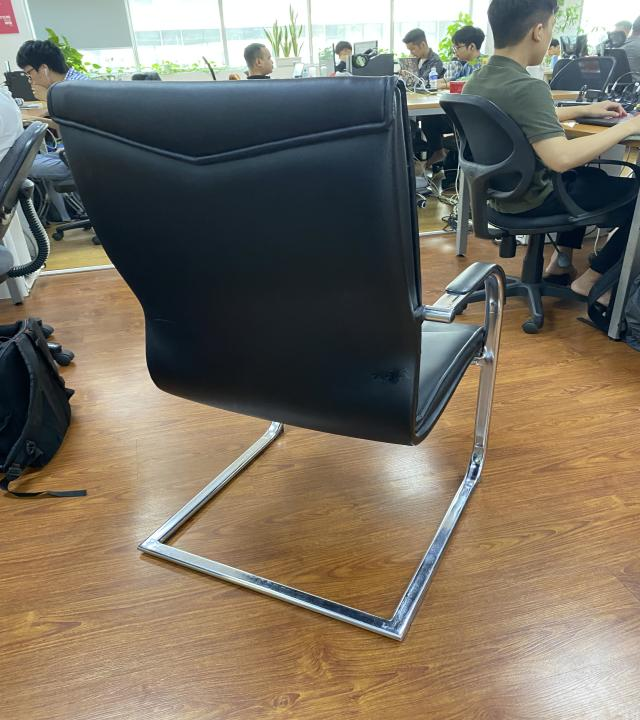SS_03: (48, 72, 510, 645)
